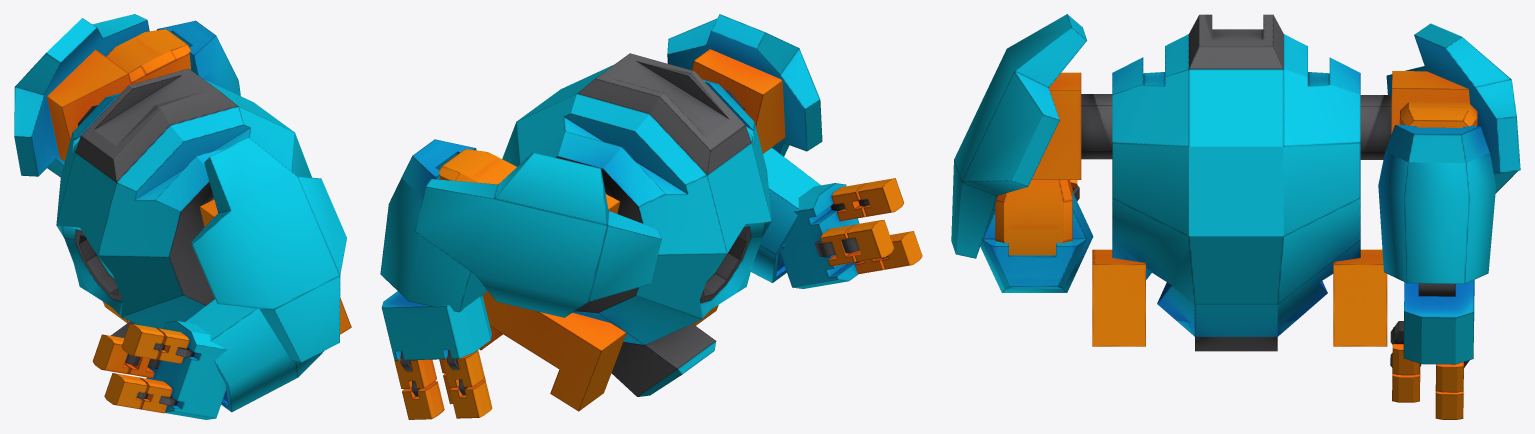
The model's file is Body_Running33.obj.
3 renders of one model, left to right at view 1: azimuth 30°, elevation 25°; view 2: azimuth 150°, elevation 25°; view 3: azimuth 270°, elevation 25°, orthographic. The views are drawn at different scales.
Visible parts, largest first — view 1: Plane001, Object006, Object002, Object008, Object007, Object003; view 2: Plane001, Object002, Object006, Object008, Object004, Object003, Object007; view 3: Plane001, Object006, Object003, Object002, Object004, Object007, Object005, Object001.
Part boxes in pixels (left/top/right/bottom): Plane001: left=56, top=68, right=351, bottom=368; Object006: left=191, top=137, right=346, bottom=362; Object002: left=14, top=14, right=190, bottom=177; Object008: left=92, top=321, right=226, bottom=419; Object007: left=185, top=299, right=323, bottom=412; Object003: left=157, top=20, right=240, bottom=95; Plane001: left=479, top=53, right=771, bottom=411; Object002: left=414, top=149, right=661, bottom=317; Object006: left=667, top=14, right=822, bottom=156; Object008: left=780, top=178, right=922, bottom=288; Object004: left=381, top=291, right=492, bottom=419; Object003: left=380, top=139, right=487, bottom=312; Object007: left=751, top=148, right=820, bottom=282; Plane001: left=1092, top=14, right=1387, bottom=351; Object006: left=951, top=14, right=1086, bottom=258; Object003: left=1378, top=125, right=1495, bottom=283; Object002: left=1386, top=23, right=1520, bottom=193; Object004: left=1390, top=280, right=1474, bottom=419; Object007: left=980, top=192, right=1093, bottom=292; Object005: left=1081, top=94, right=1112, bottom=159; Object001: left=1360, top=95, right=1391, bottom=159.
Size of the model in its own units: 130 by 117 by 182.
